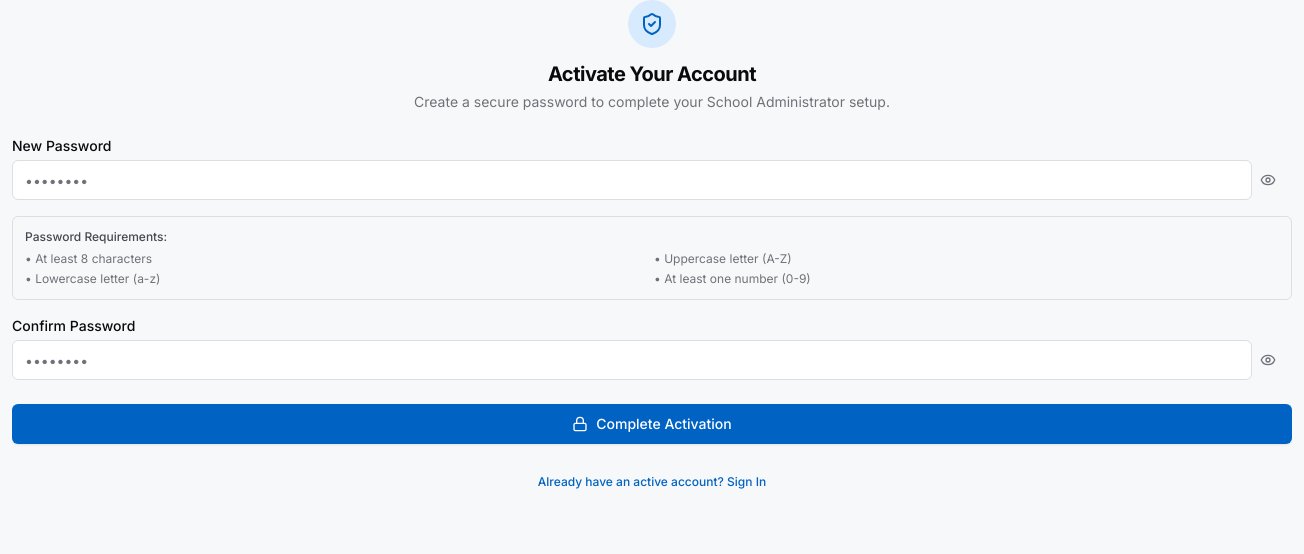
Test case: AcceptInvitationPage Component › should show validation error if passwords do not match or do not meet requirements
The image size is (1304, 554).
In the password field labelled "New Password": (632, 180) x1=12 y1=160 x2=1252 y2=200, type "short"
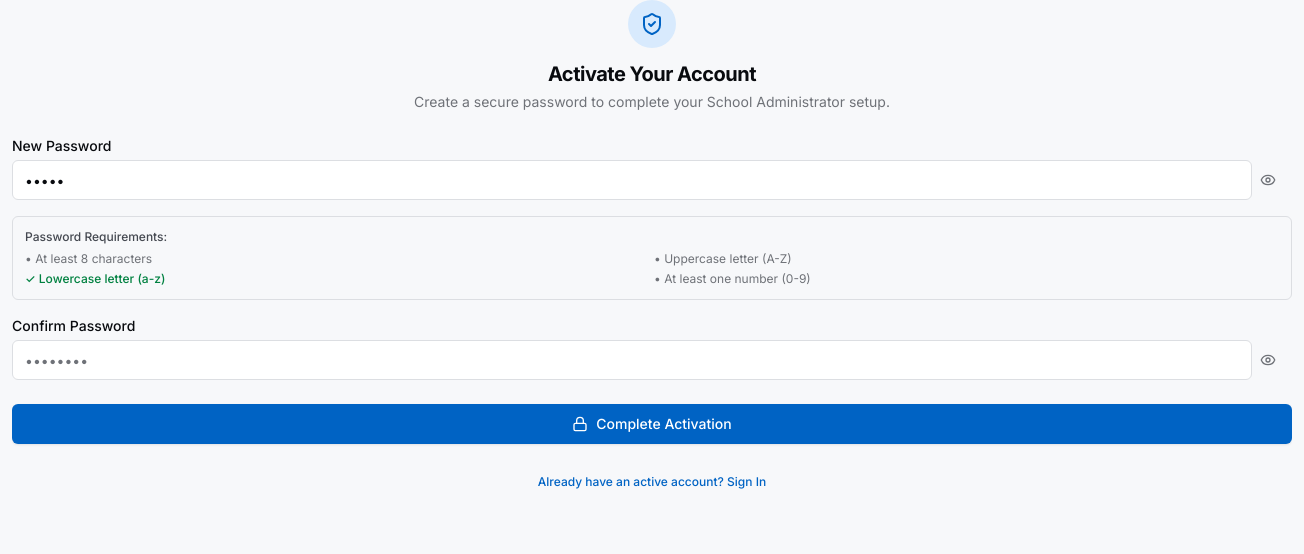
In the password field labelled "Confirm Password": (632, 360) x1=12 y1=340 x2=1252 y2=380, type "different"
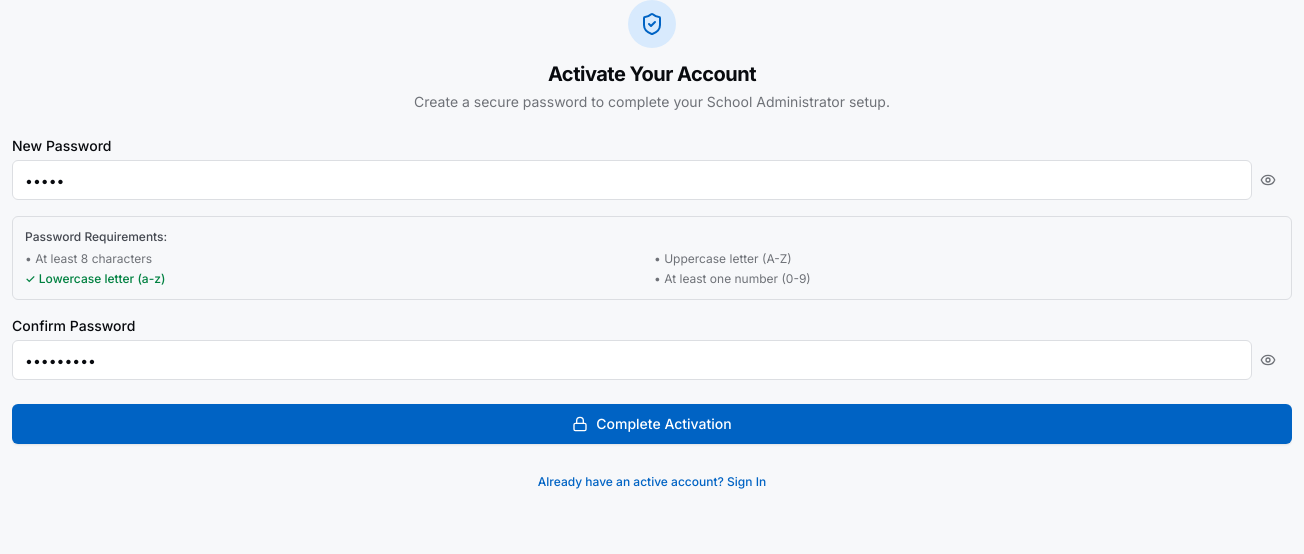
Click the button "Complete Activation": (652, 424) x1=12 y1=404 x2=1292 y2=444
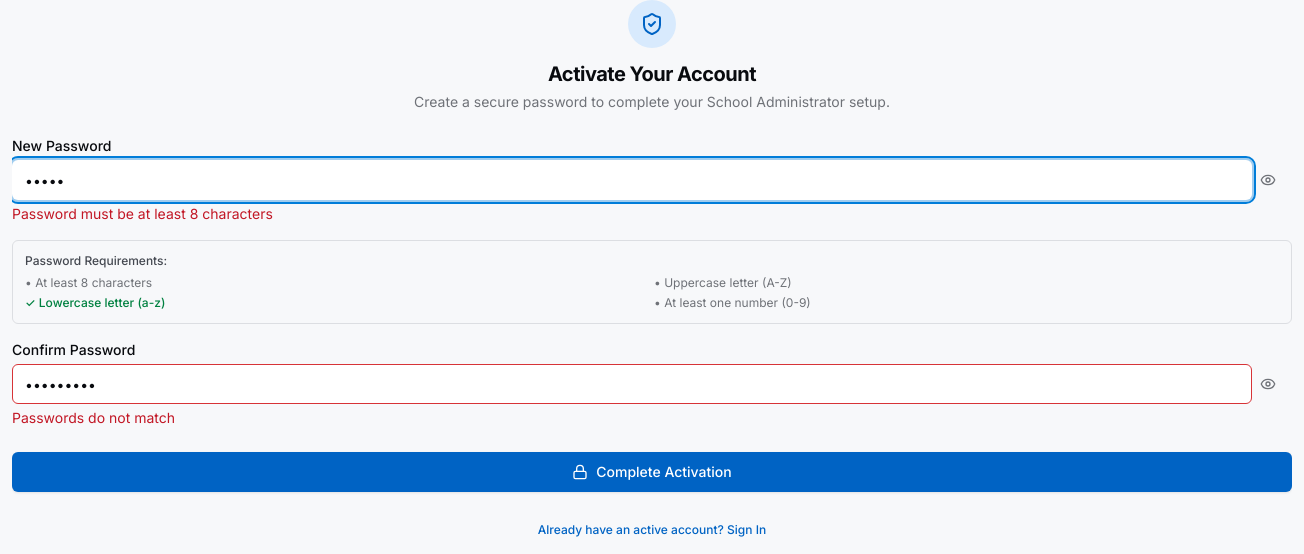
Expected: the text "Password must be at least 8 characters" is shown, x1=12 y1=205 x2=273 y2=222
